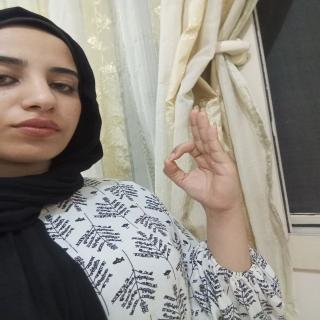Space: (152, 107, 254, 217)
